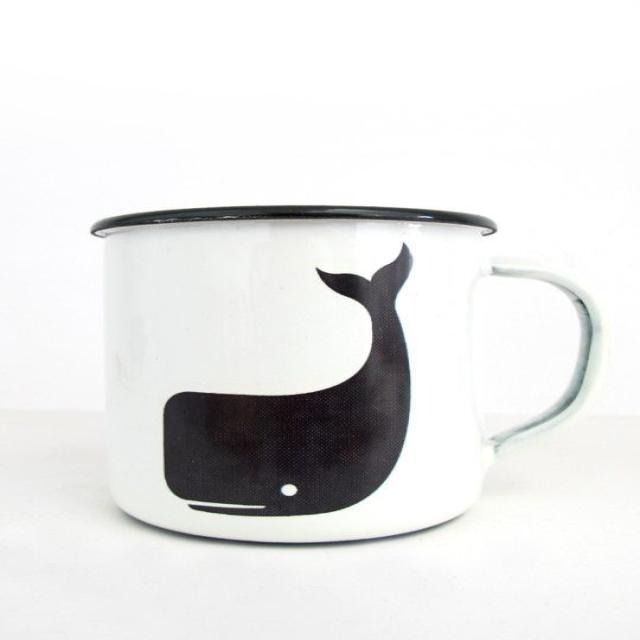glass cup: (92, 204, 614, 546)
